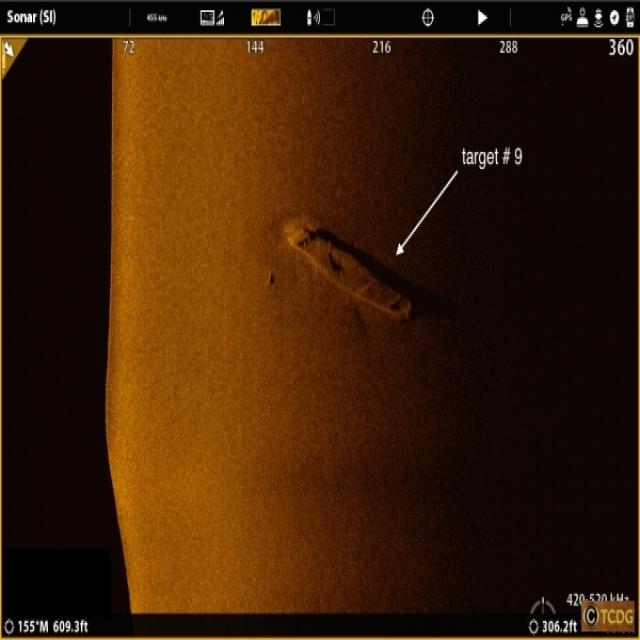ship: (285, 213, 412, 321)
